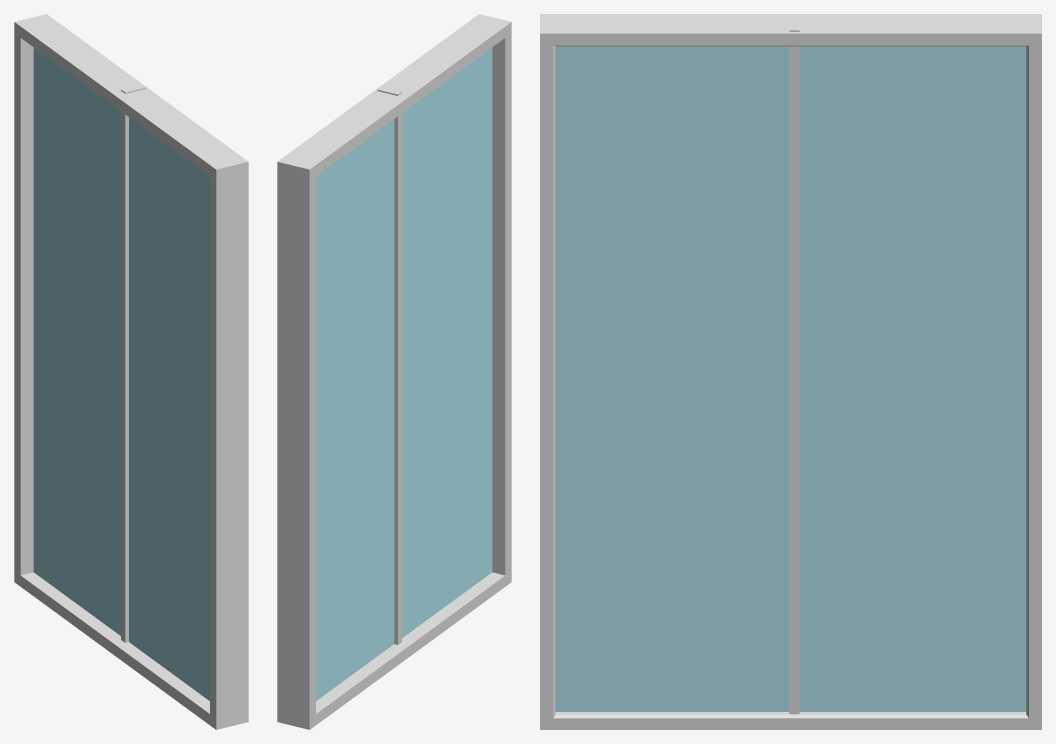
File: windows fram.fbx
3 renders of one model, left to right at view 1: azimuth 30°, elevation 25°; view 2: azimuth 150°, elevation 25°; view 3: azimuth 270°, elevation 25°, orthographic. The views are drawn at different scales.
Parts seen in each view (by area): view 1: pCube2.001; view 2: pCube2.001; view 3: pCube2.001.
Boxes of the visible parts, x1,y1,x2,y2 form: pCube2.001: [14, 14, 248, 729]; pCube2.001: [277, 14, 511, 729]; pCube2.001: [540, 14, 1041, 729].
Bounding box in the file's own units: 26.97 × 447 × 291.
